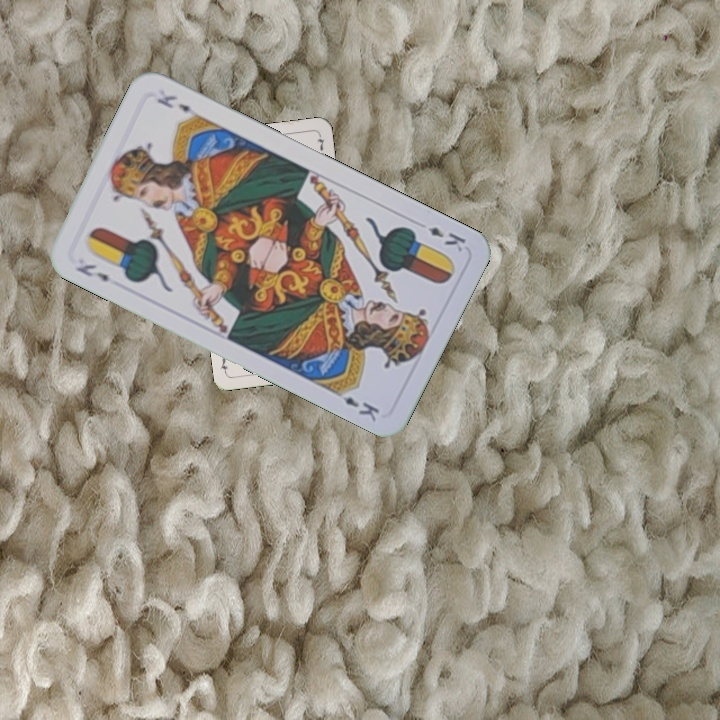EK: (424, 223, 468, 255), (72, 260, 112, 285)
